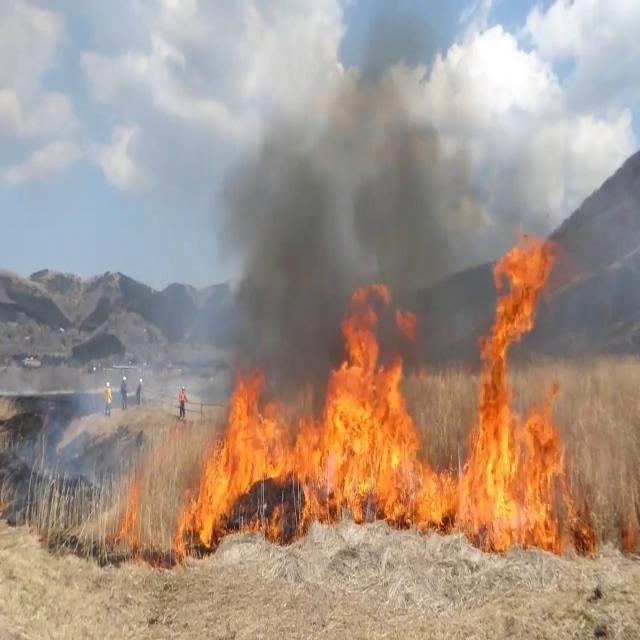Fire: (178, 302, 443, 552), (461, 216, 583, 552)
Smoke: (182, 69, 464, 385)
